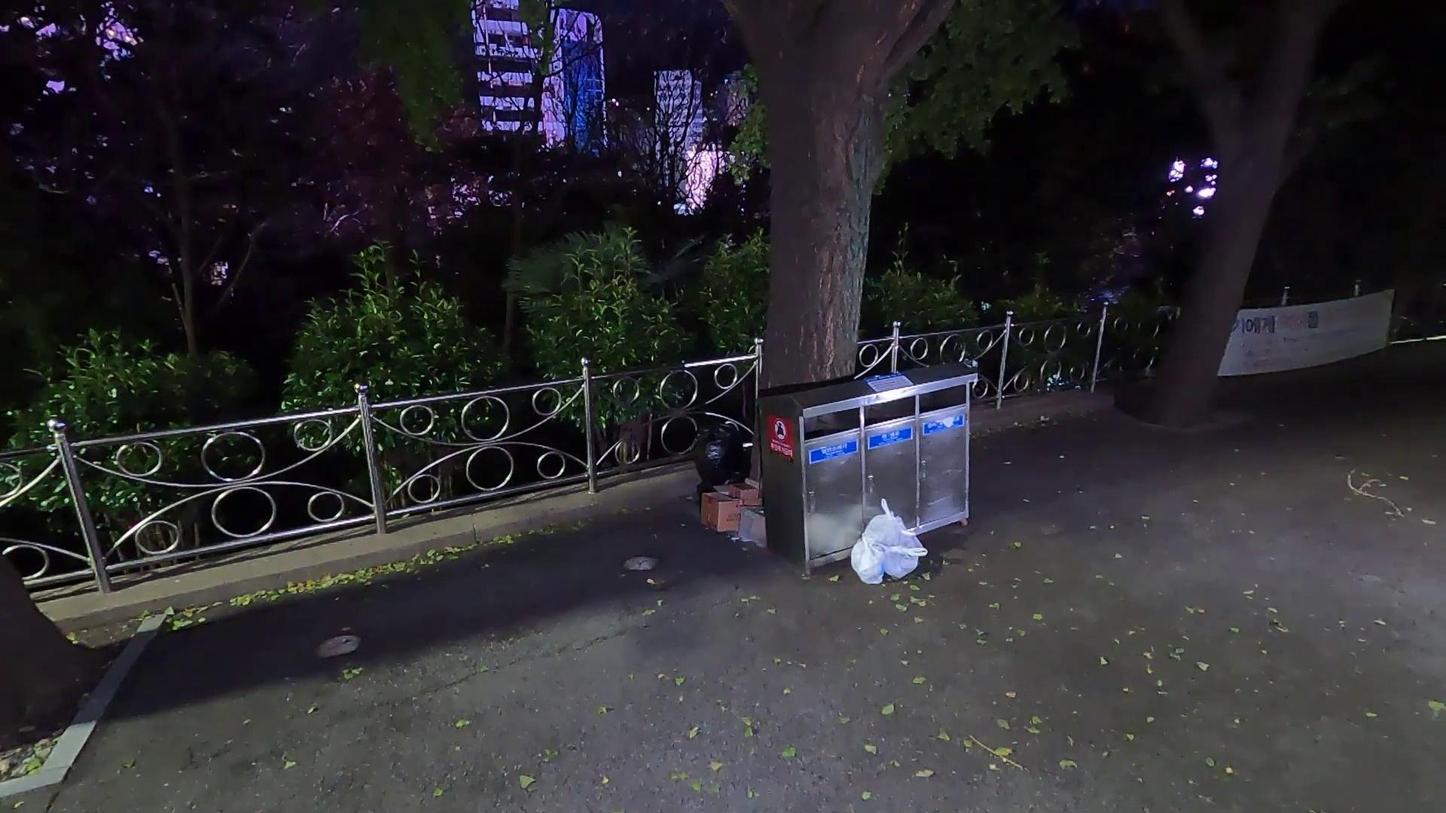trash: (693, 420, 750, 509), (860, 498, 925, 573), (697, 489, 763, 531), (877, 543, 924, 582), (849, 535, 886, 584), (727, 481, 761, 499)
